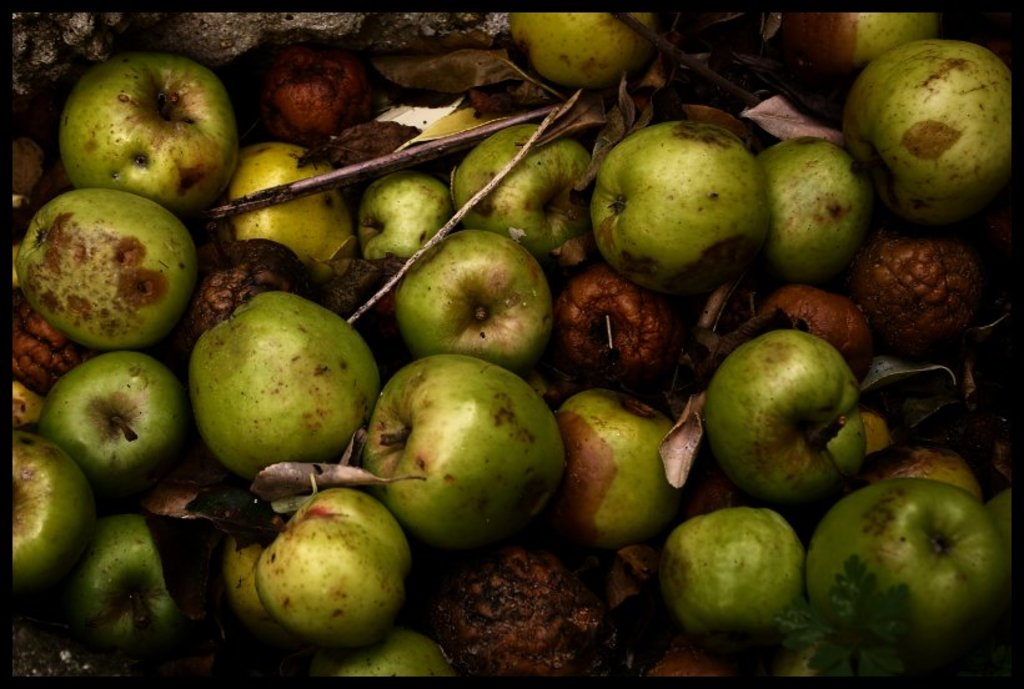Apple: (3, 63, 1021, 687), (498, 0, 665, 91), (789, 0, 951, 68)
